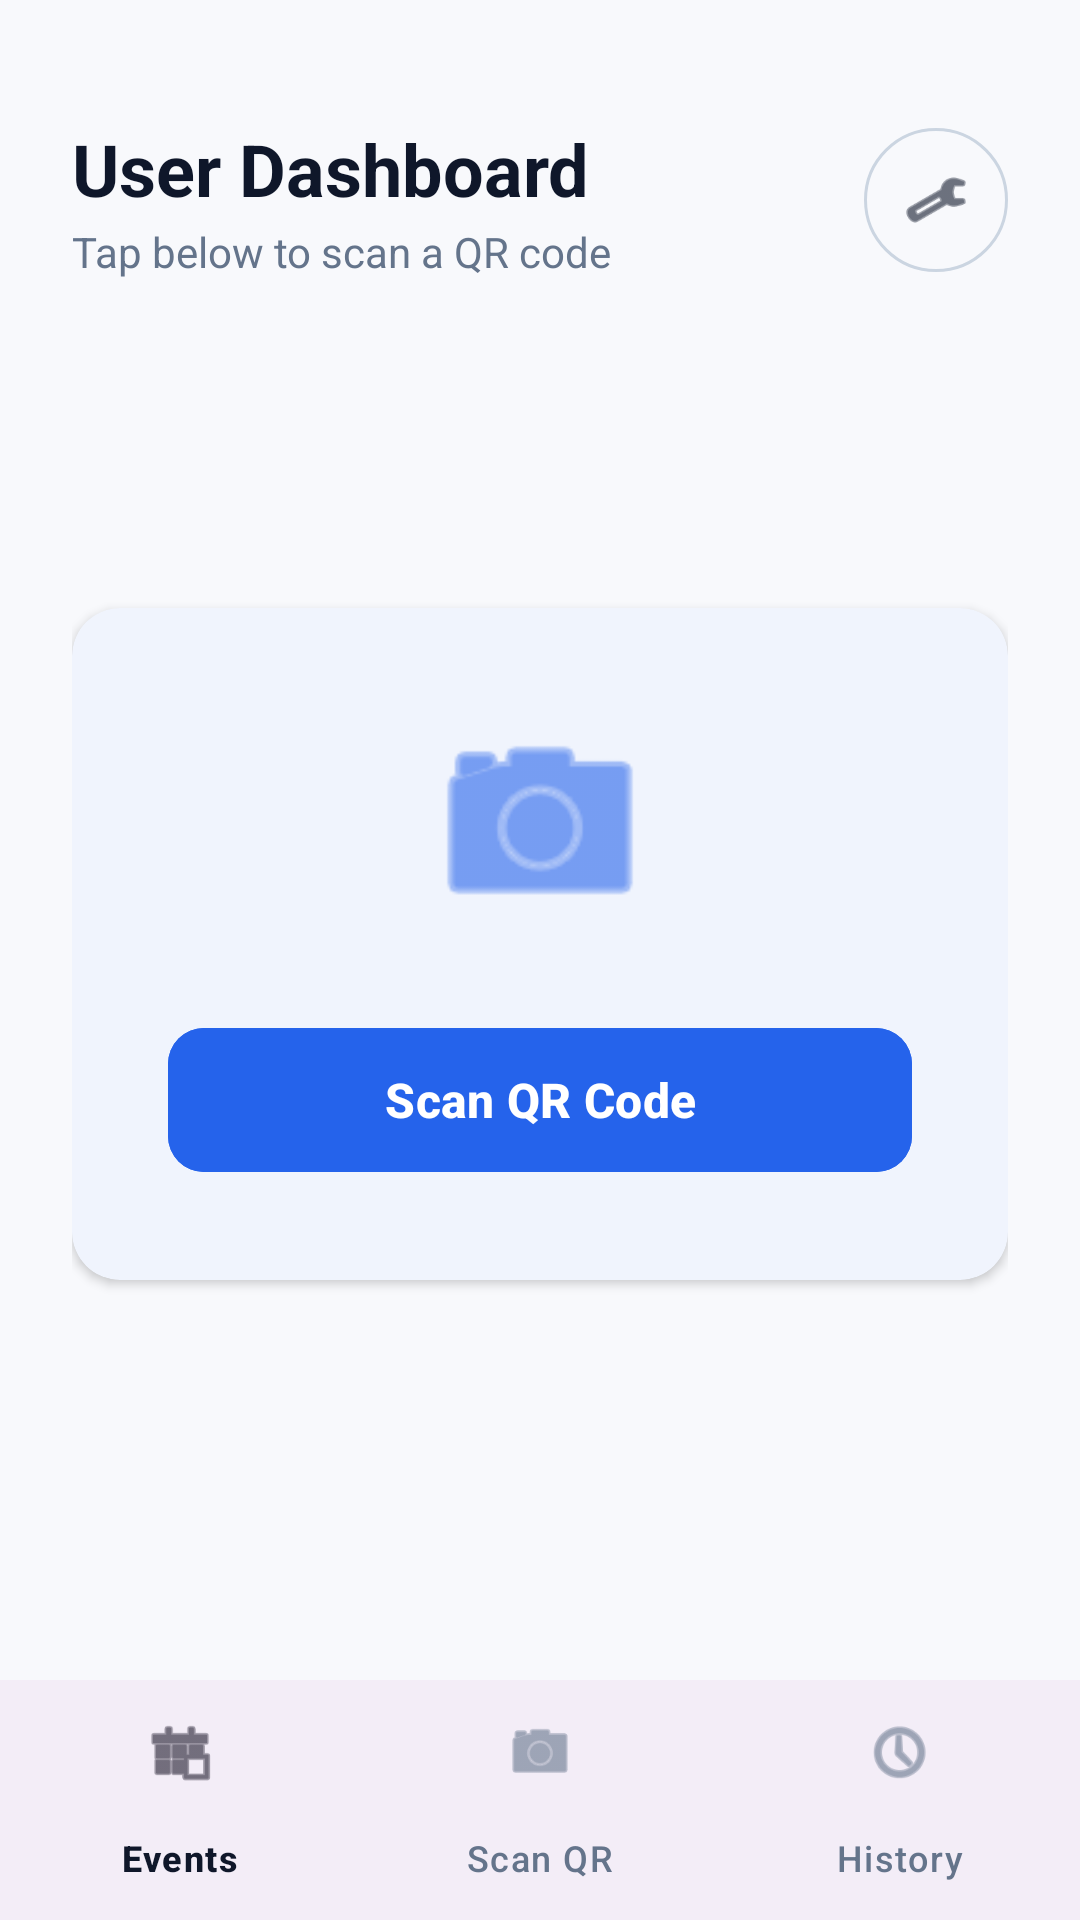

Icons on this 1080 x 1920 Android screen, each with its box as box(x1, y1, x2, y2):
Camera Icon: box(447, 746, 633, 894)
Settings: box(864, 128, 1008, 272)
